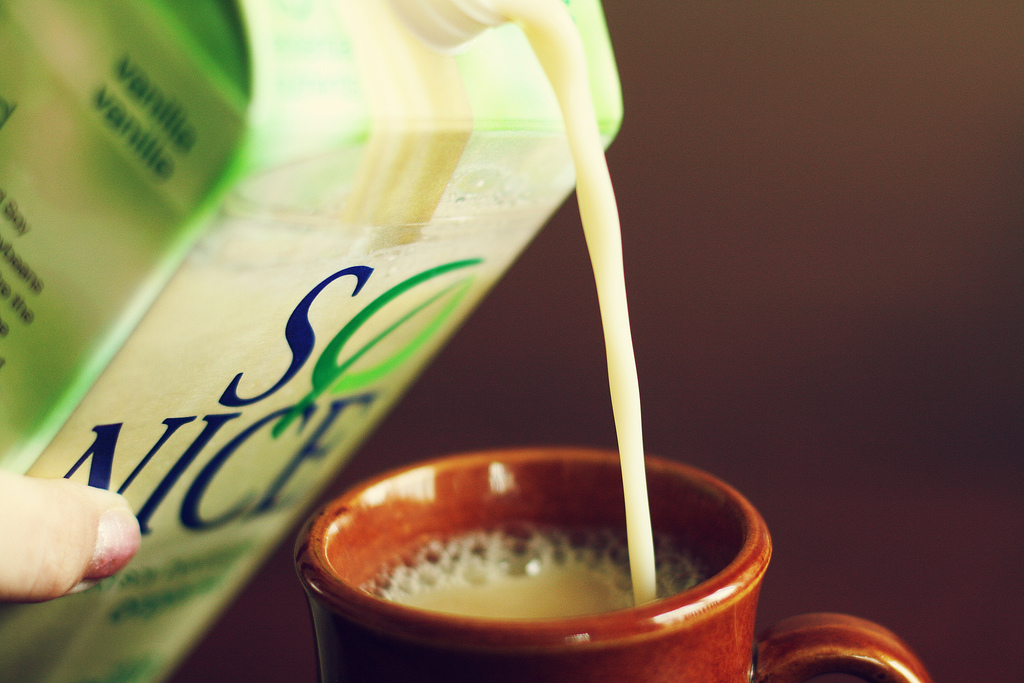glass of milk: (358, 438, 740, 607)
